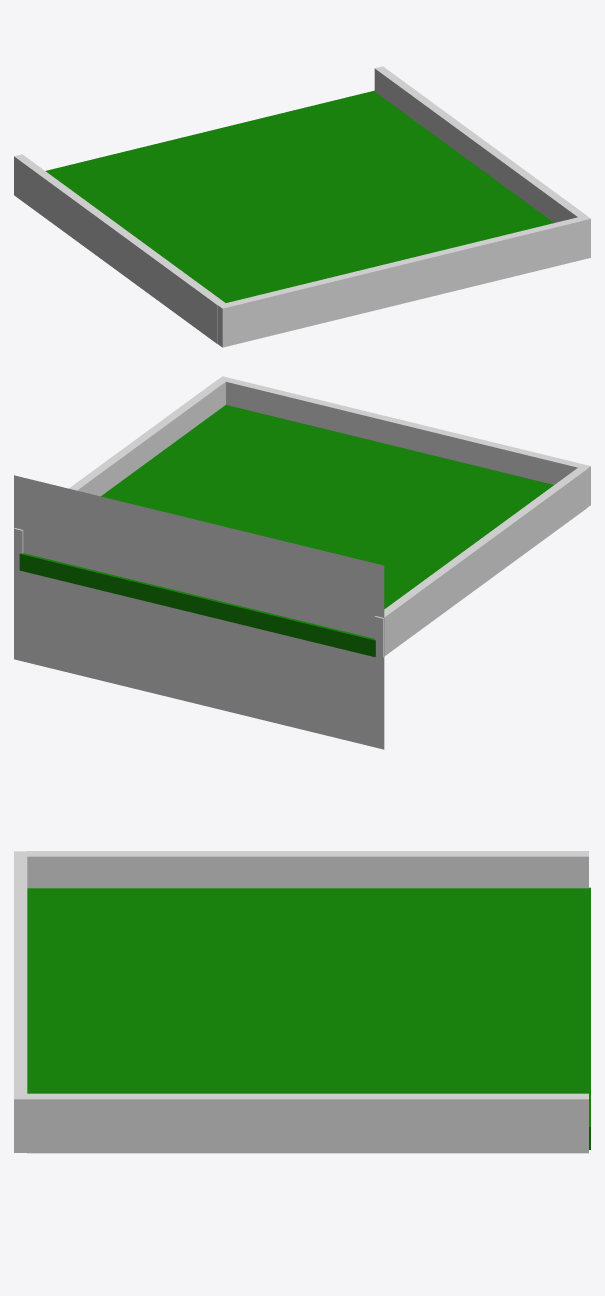
The model's file is end_piece.glb.
3 renders of one model, top to bottom at view 1: azimuth 30°, elevation 25°; view 2: azimuth 150°, elevation 25°; view 3: azimuth 270°, elevation 25°, orthographic. The views are drawn at different scales.
Parts seen in each view (by area): view 1: Cube, Cube.003, Cube.001, Cube.002; view 2: obj_snap.001, Cube, Cube.001, Cube.003, Cube.002; view 3: Cube, Cube.002, Cube.001, Cube.003.
Boxes of the visible parts, <box> form: Cube: <box>45,90,553,302</box>; Cube.003: <box>218,215,590,347</box>; Cube.001: <box>14,154,225,344</box>; Cube.002: <box>374,66,586,222</box>; obj_snap.001: <box>14,475,384,749</box>; Cube: <box>19,405,553,656</box>; Cube.001: <box>374,467,586,657</box>; Cube.003: <box>218,376,590,507</box>; Cube.002: <box>14,379,225,568</box>; Cube: <box>27,887,590,1149</box>; Cube.002: <box>27,1093,588,1153</box>; Cube.001: <box>27,851,588,888</box>; Cube.003: <box>14,851,27,1152</box>.
Size of the model in its own units: 4.21 by 2 by 4.12.
